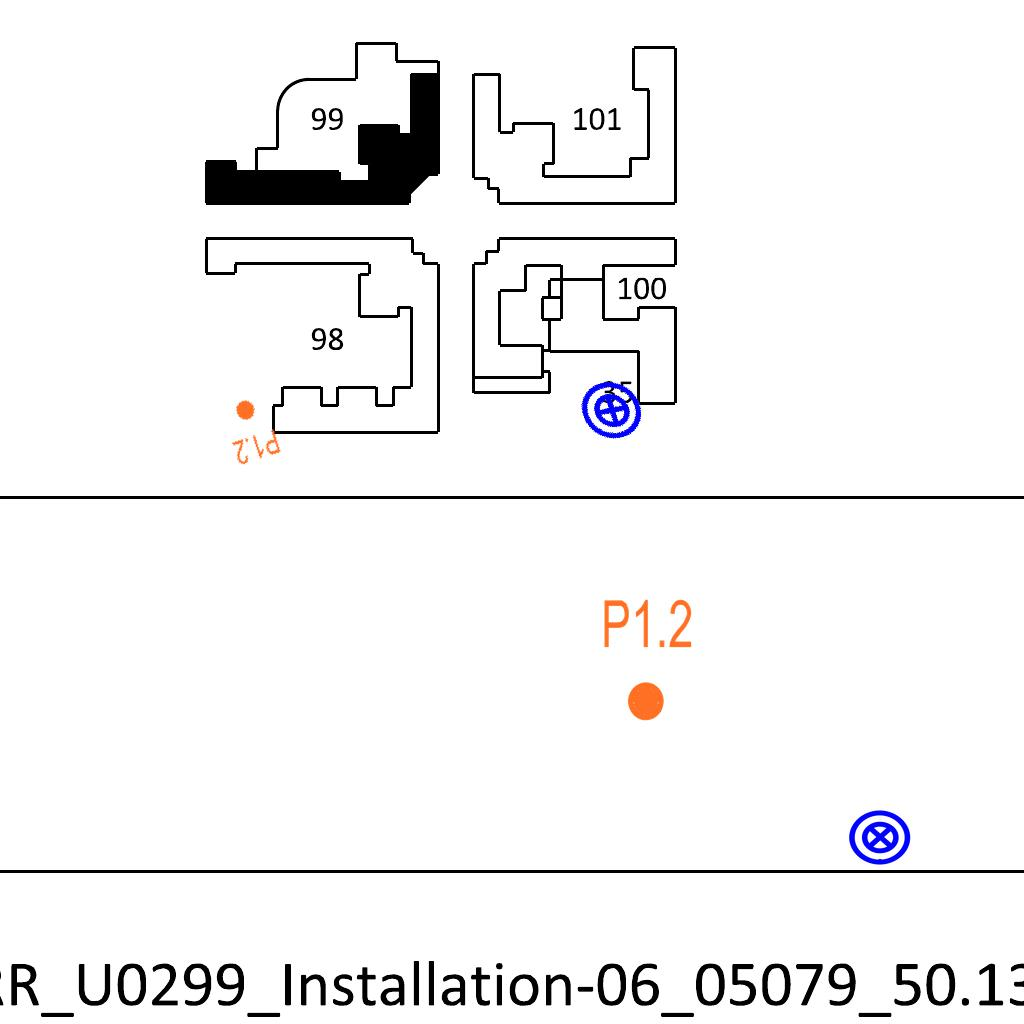Downlight_LED_Einbauleuchten_Flur: (601, 596, 694, 724), (219, 392, 283, 468)
Taster_beleuchtet: (566, 364, 658, 456), (847, 804, 913, 870)
